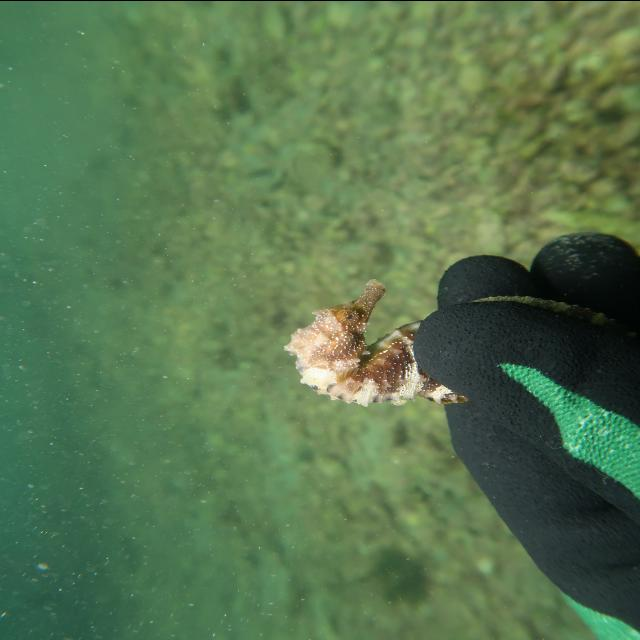Guttu: (282, 275, 394, 369)
